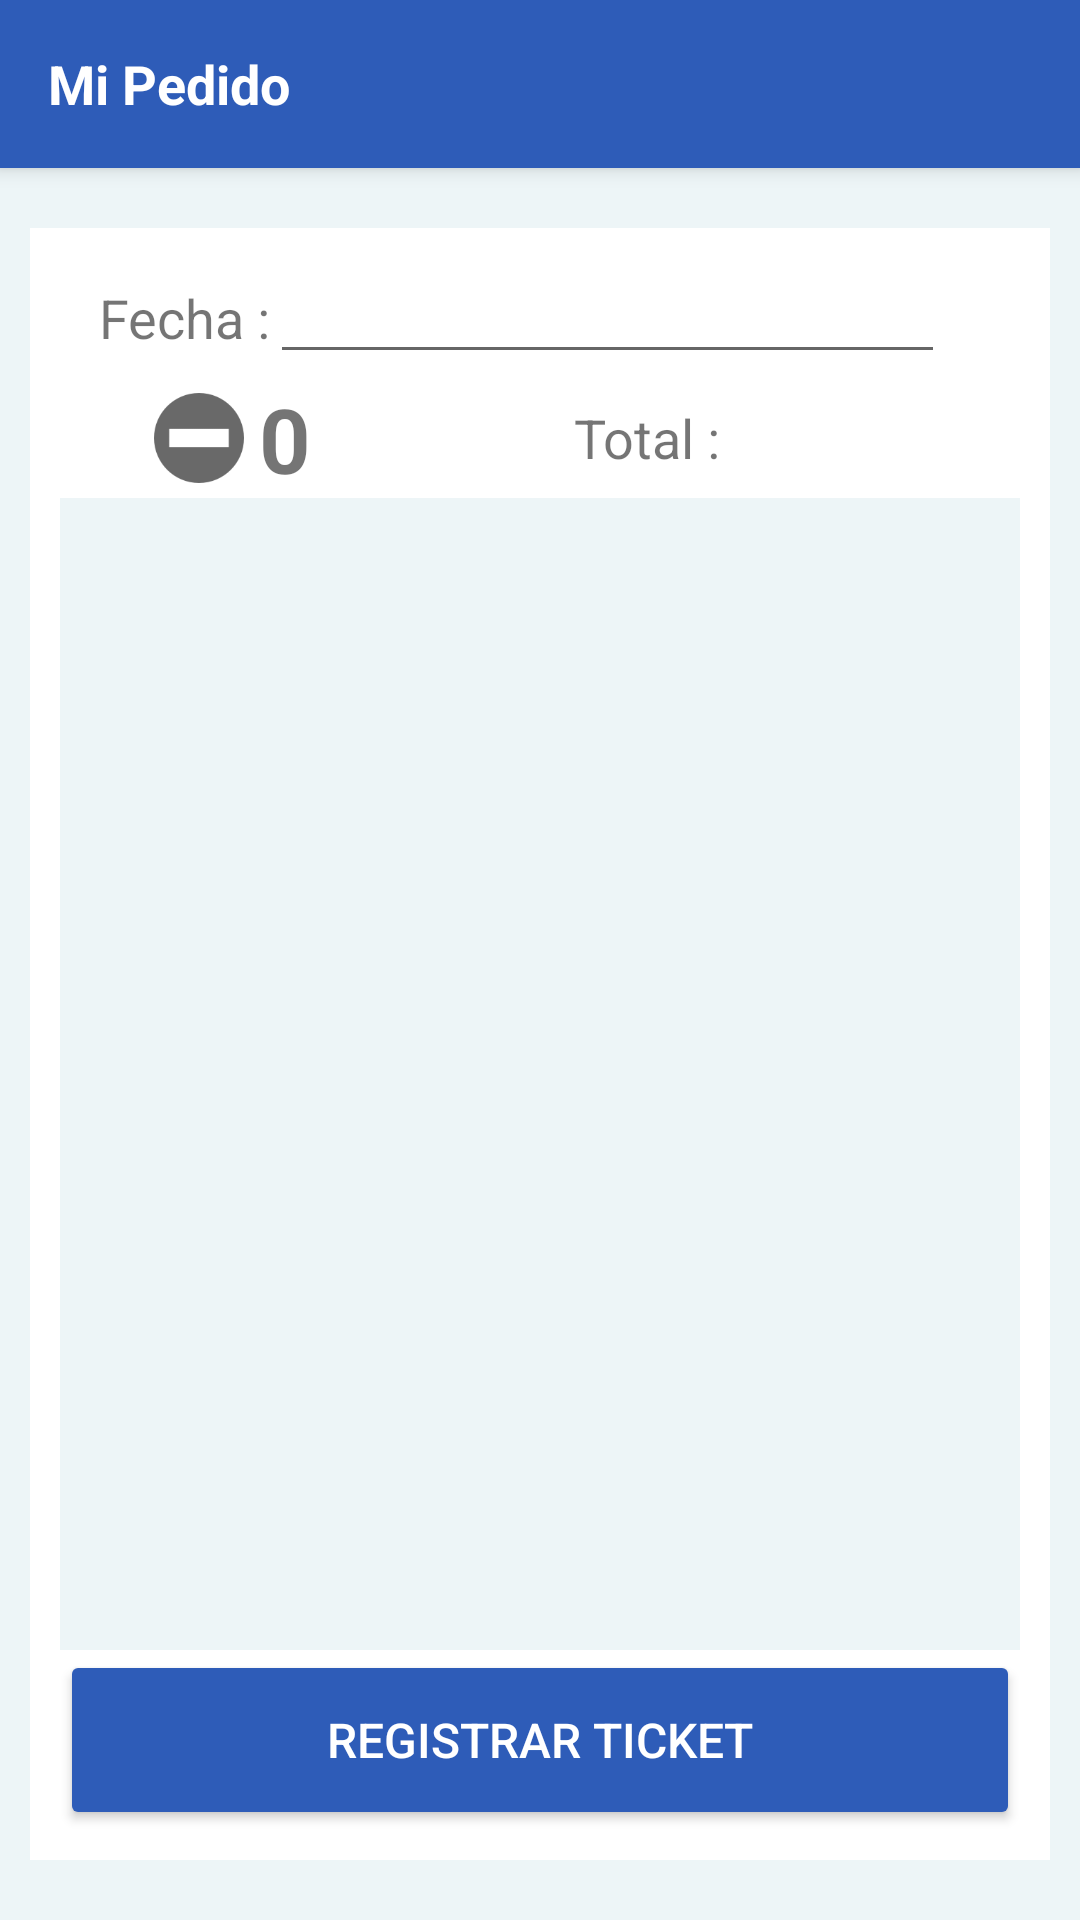

Where icons sit on this 1080w x 1920h app screen, as (x1, y1, x2, y2):
minusgrey: (154, 393, 244, 483)
